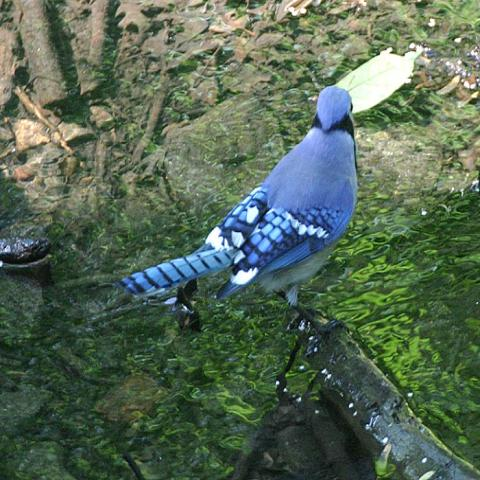bird: (115, 82, 360, 332)
